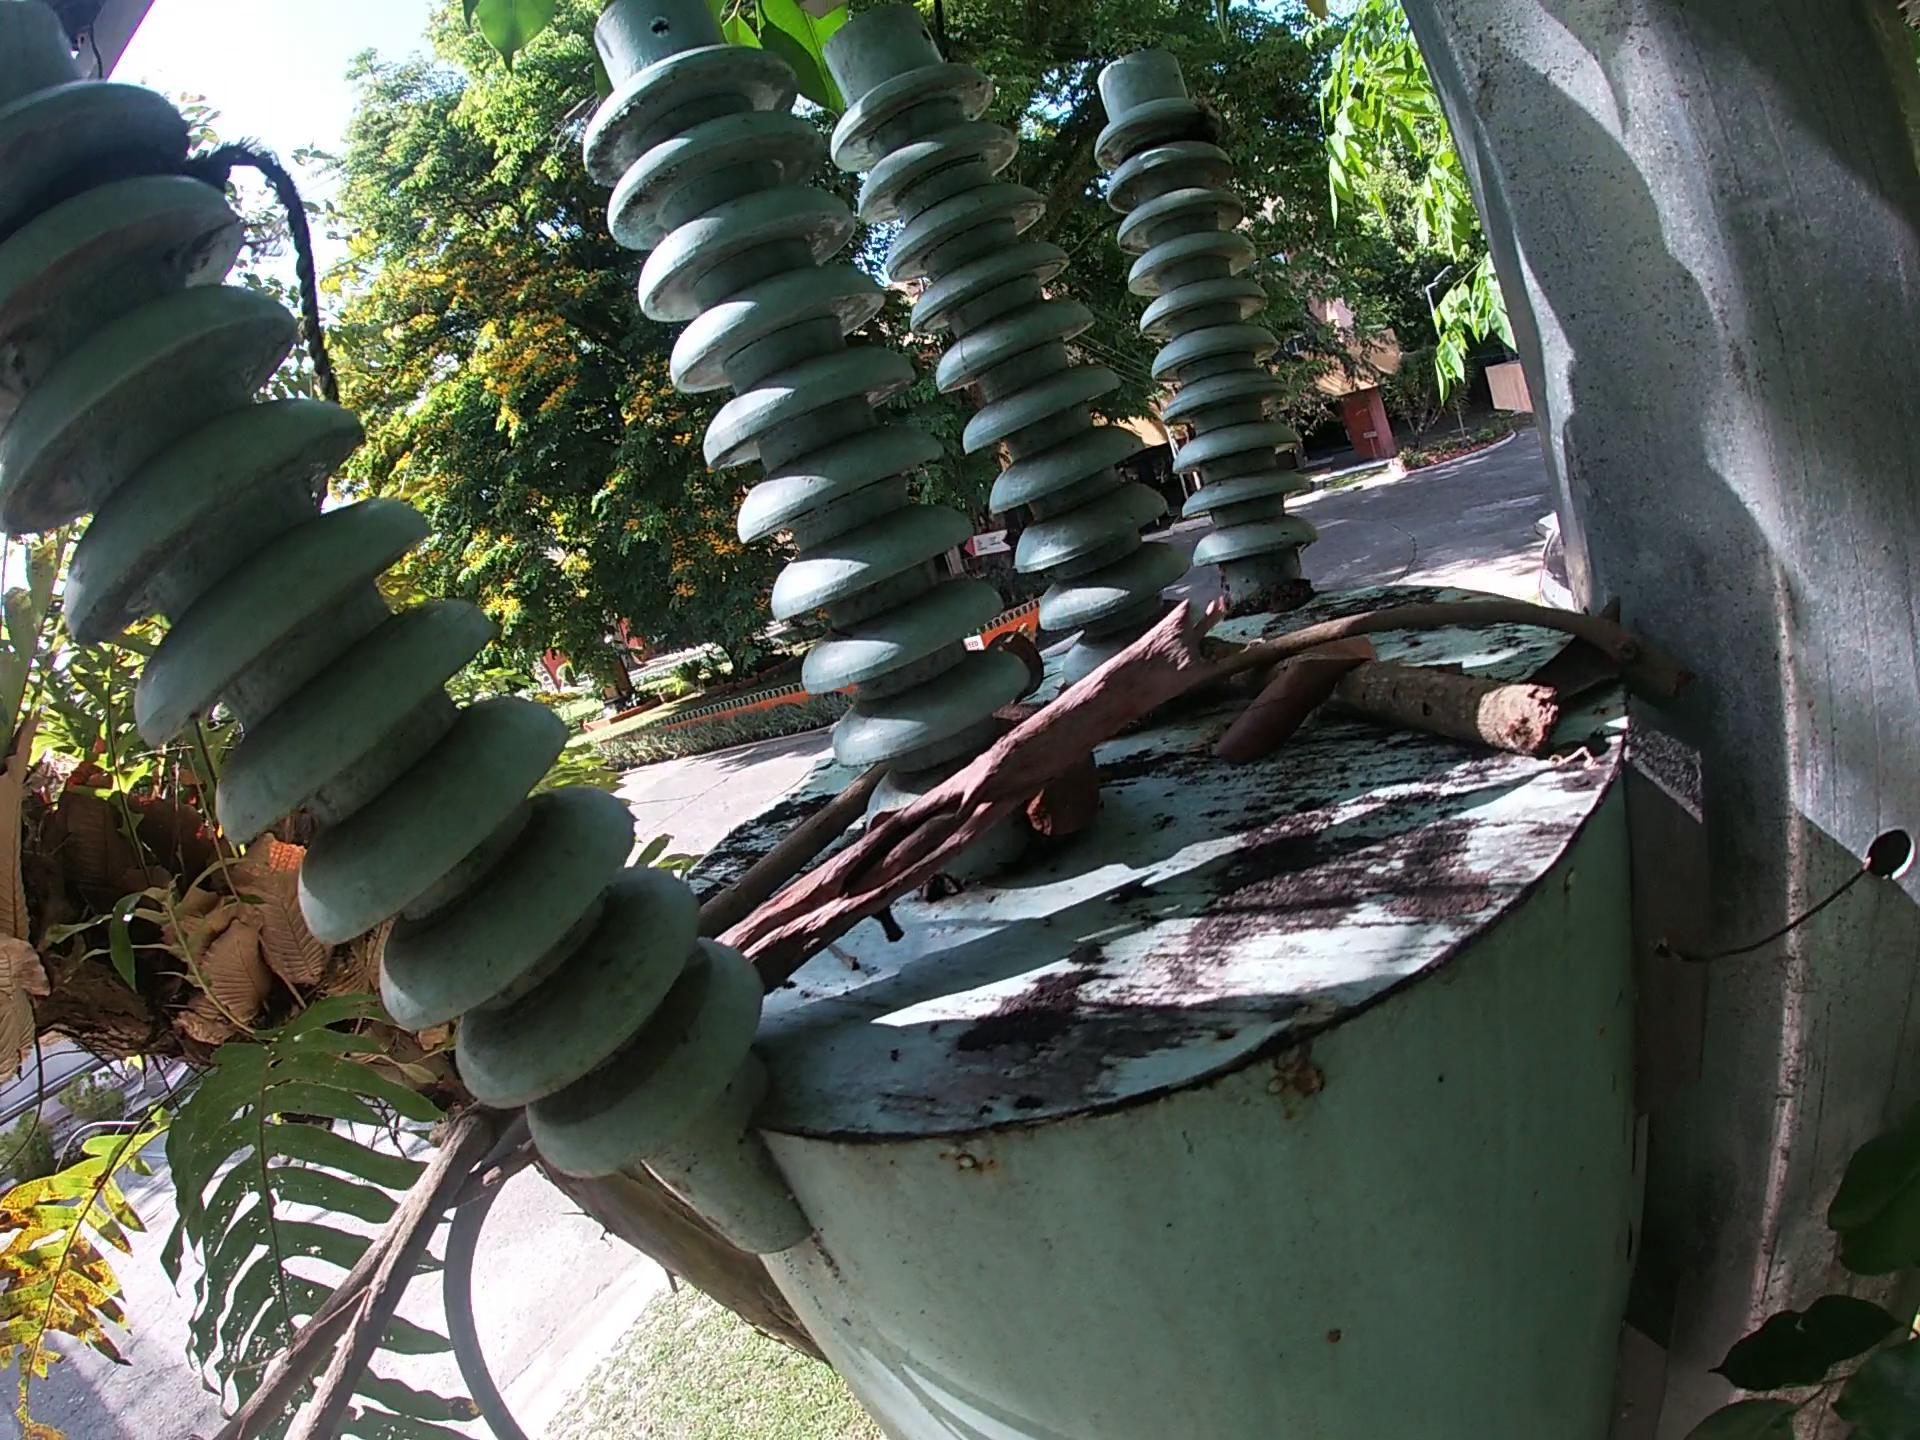leaf: (1208, 644, 1376, 758), (1528, 593, 1634, 702)
mahogany fruit: (992, 699, 1117, 839)
tree branch: (712, 590, 1237, 995), (210, 1094, 514, 1440), (1185, 591, 1701, 715), (1197, 638, 1569, 770), (692, 755, 889, 944), (444, 1141, 547, 1210)
